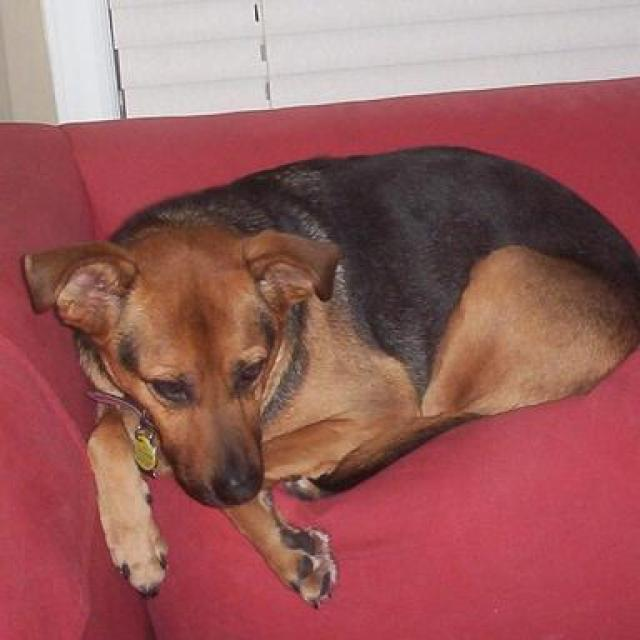adult_dog: (19, 144, 640, 608)
